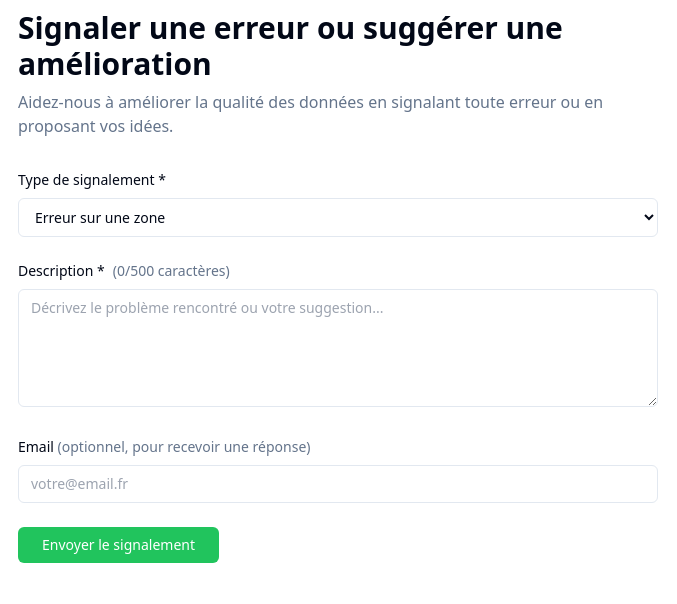
Test: FeedbackPage › shows validation errors when submitting empty form
The width and height of the screenshot is (677, 604).
Clear the text box labelled "Description *(0/500 caractères)" at (338, 348), box x1=18 y1=289 x2=658 y2=407
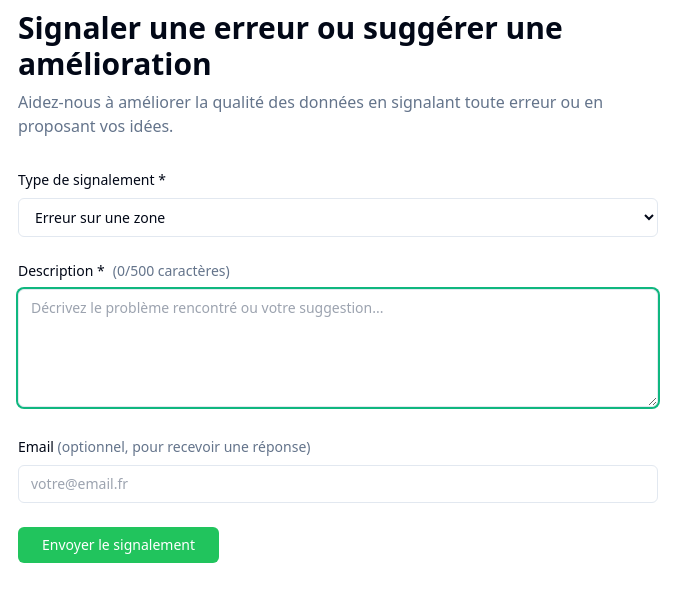
Click the button "Envoyer le signalement".
click(118, 545)  # box x1=18 y1=527 x2=219 y2=563
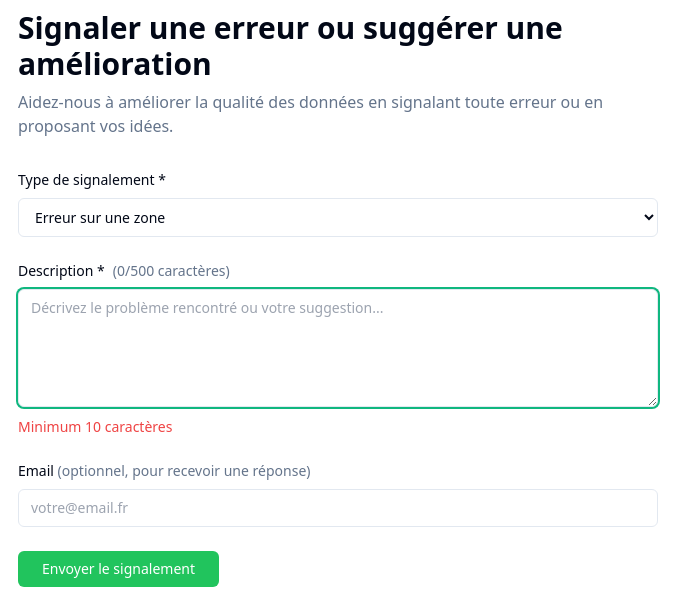
Expected: the text "Minimum 10 caractères" is shown, x1=18 y1=417 x2=172 y2=436
